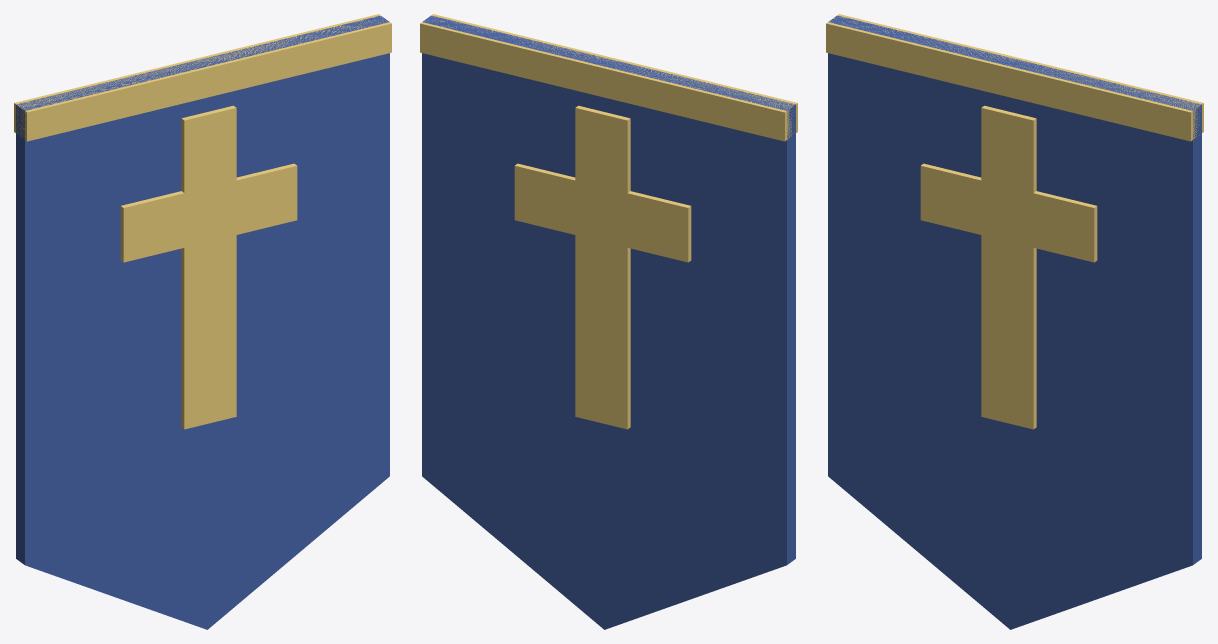
File: SM_Paladin_Tabard.glb
3 views of the same model, side by side, from view 1: azimuth 30°, elevation 25°; view 2: azimuth 150°, elevation 25°; view 3: azimuth 330°, elevation 25° (orthographic).
Parts seen in each view (by area): view 1: SM_Paladin_Tabard; view 2: SM_Paladin_Tabard; view 3: SM_Paladin_Tabard.
Boxes of the visible parts, x1=… form: SM_Paladin_Tabard: x1=14, y1=14, x2=391, y2=629; SM_Paladin_Tabard: x1=420, y1=14, x2=797, y2=629; SM_Paladin_Tabard: x1=826, y1=14, x2=1203, y2=629.
Bounding box in the file's own units: 0.21 × 0.31 × 0.015.
